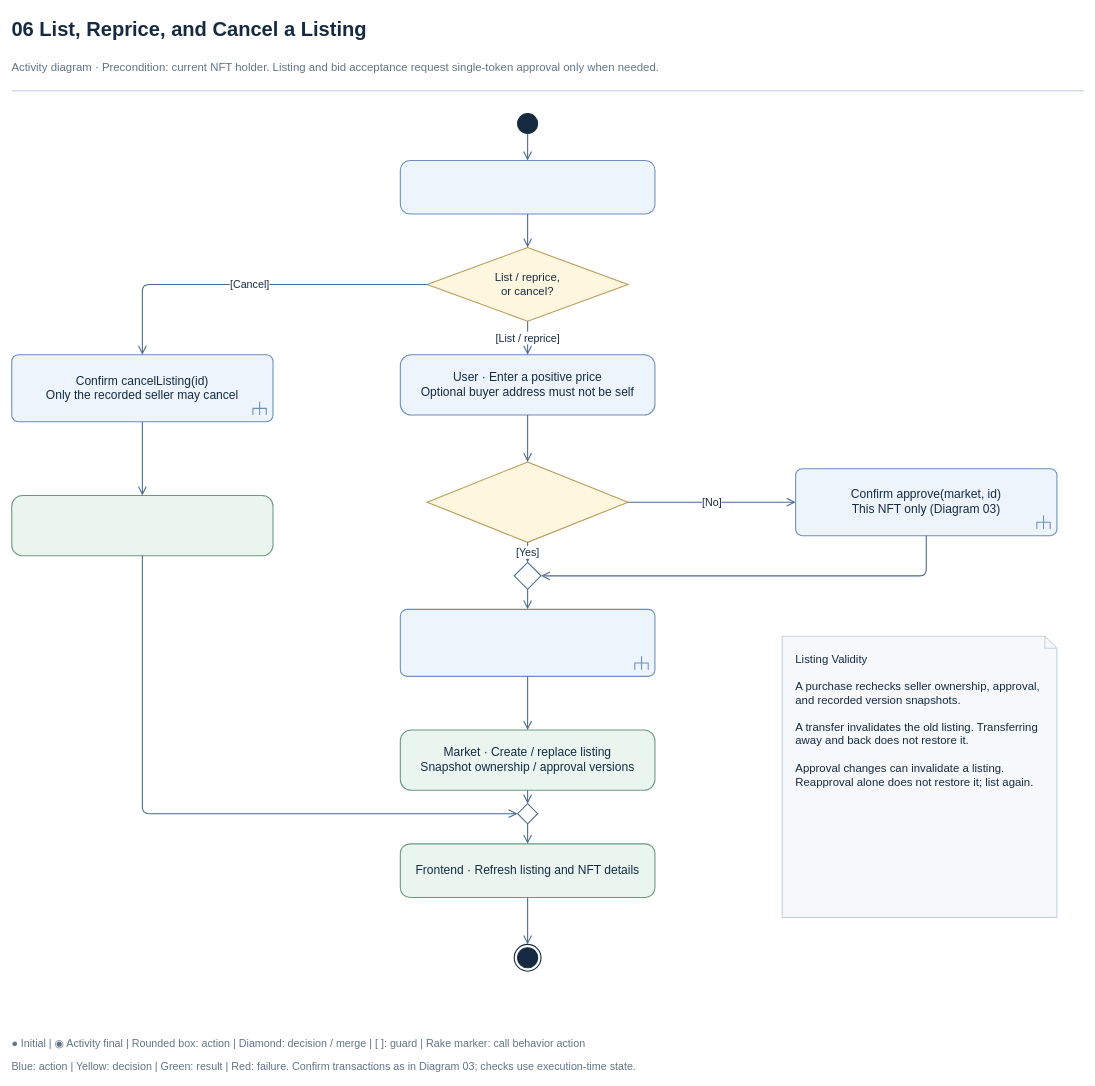
Image size: 1095x1086. Some labels were removed from this diagram. Each missing label, with the centre of its shape:
"Confirm list(id, price, onlyBuyer) Check ownership, price, approval" belongs at (x=527, y=642).
"Market already approved?" belongs at (x=527, y=502).
"Market · Delete listing Keep NFT ownership and existing bid" belongs at (x=142, y=525).
"User · Choose an action in NFT details" belongs at (x=527, y=187).
